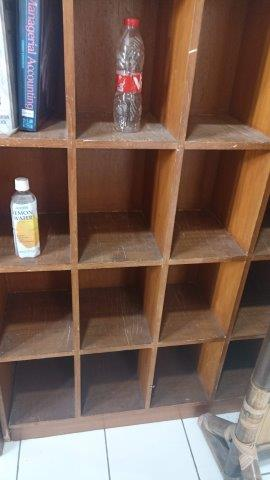botolplastik: (112, 17, 149, 128), (11, 177, 43, 260)
